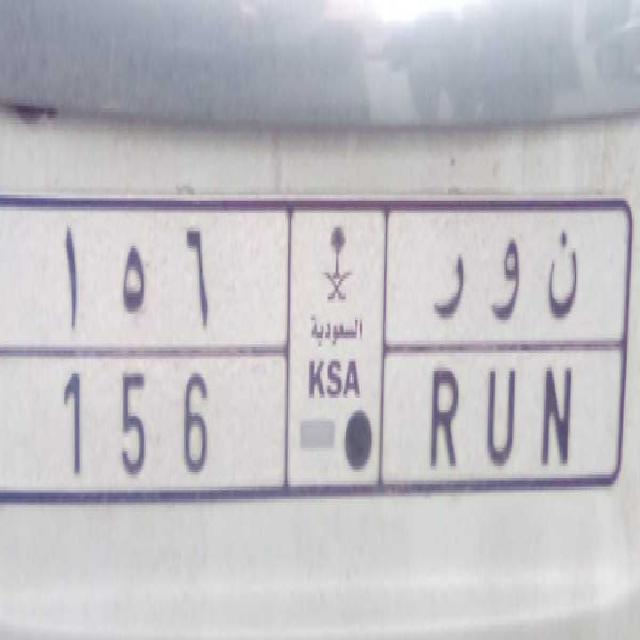license_plate: (1, 345, 603, 503)
